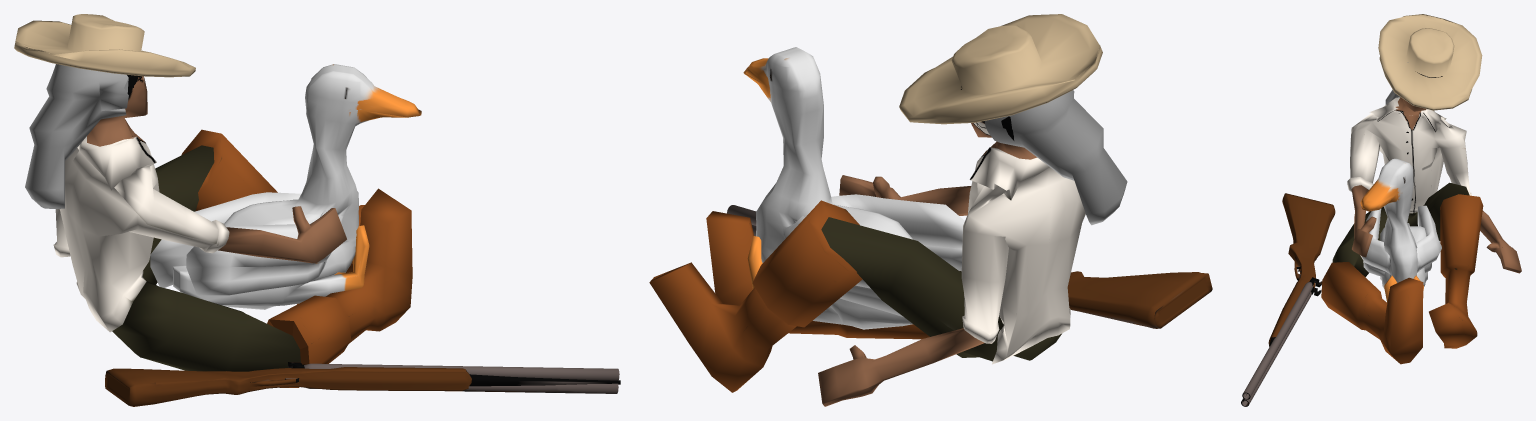
The model's file is bowmari_9.obj.
The picture shows the model from 3 angles, left to right: view 1: azimuth 30°, elevation 25°; view 2: azimuth 150°, elevation 25°; view 3: azimuth 270°, elevation 25°; orthographic projection. The views are drawn at different scales.
Parts seen in each view (by area): view 1: Default_Body_Cube, Cube.005, SHOTGUN_Cube.007, Hair_Cube.004, Hat_Cylinder; view 2: Default_Body_Cube, Cube.005, Hat_Cylinder, Hair_Cube.004, SHOTGUN_Cube.007; view 3: Default_Body_Cube, Hat_Cylinder, Cube.005, SHOTGUN_Cube.007.
Boxes of the visible parts, x1=… form: Default_Body_Cube: x1=53, y1=74, x2=412, y2=387; Cube.005: x1=150, y1=64, x2=421, y2=309; SHOTGUN_Cube.007: x1=105, y1=362, x2=620, y2=406; Hair_Cube.004: x1=25, y1=64, x2=128, y2=208; Hat_Cylinder: x1=14, y1=14, x2=195, y2=77; Default_Body_Cube: x1=649, y1=116, x2=1085, y2=406; Cube.005: x1=743, y1=47, x2=964, y2=329; Hat_Cylinder: x1=899, y1=14, x2=1102, y2=124; Hair_Cube.004: x1=984, y1=90, x2=1127, y2=225; SHOTGUN_Cube.007: x1=727, y1=205, x2=1212, y2=328; Default_Body_Cube: x1=1321, y1=76, x2=1521, y2=364; Hat_Cylinder: x1=1378, y1=14, x2=1482, y2=110; Cube.005: x1=1360, y1=158, x2=1441, y2=302; SHOTGUN_Cube.007: x1=1241, y1=193, x2=1335, y2=406.
Size of the model in its own units: 6.9 by 5.15 by 5.29.
